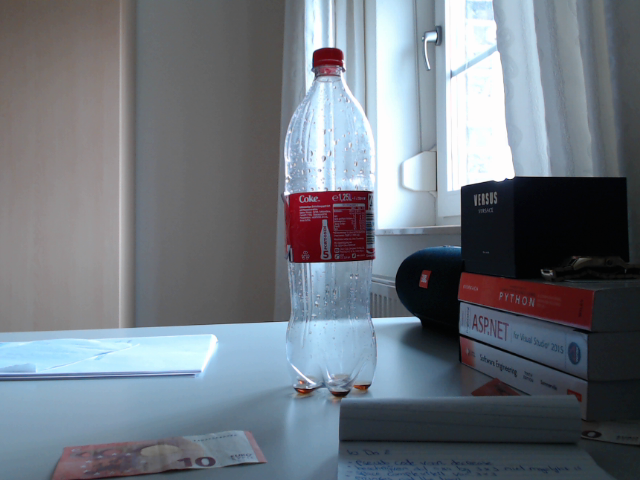bottle: (282, 46, 378, 398)
